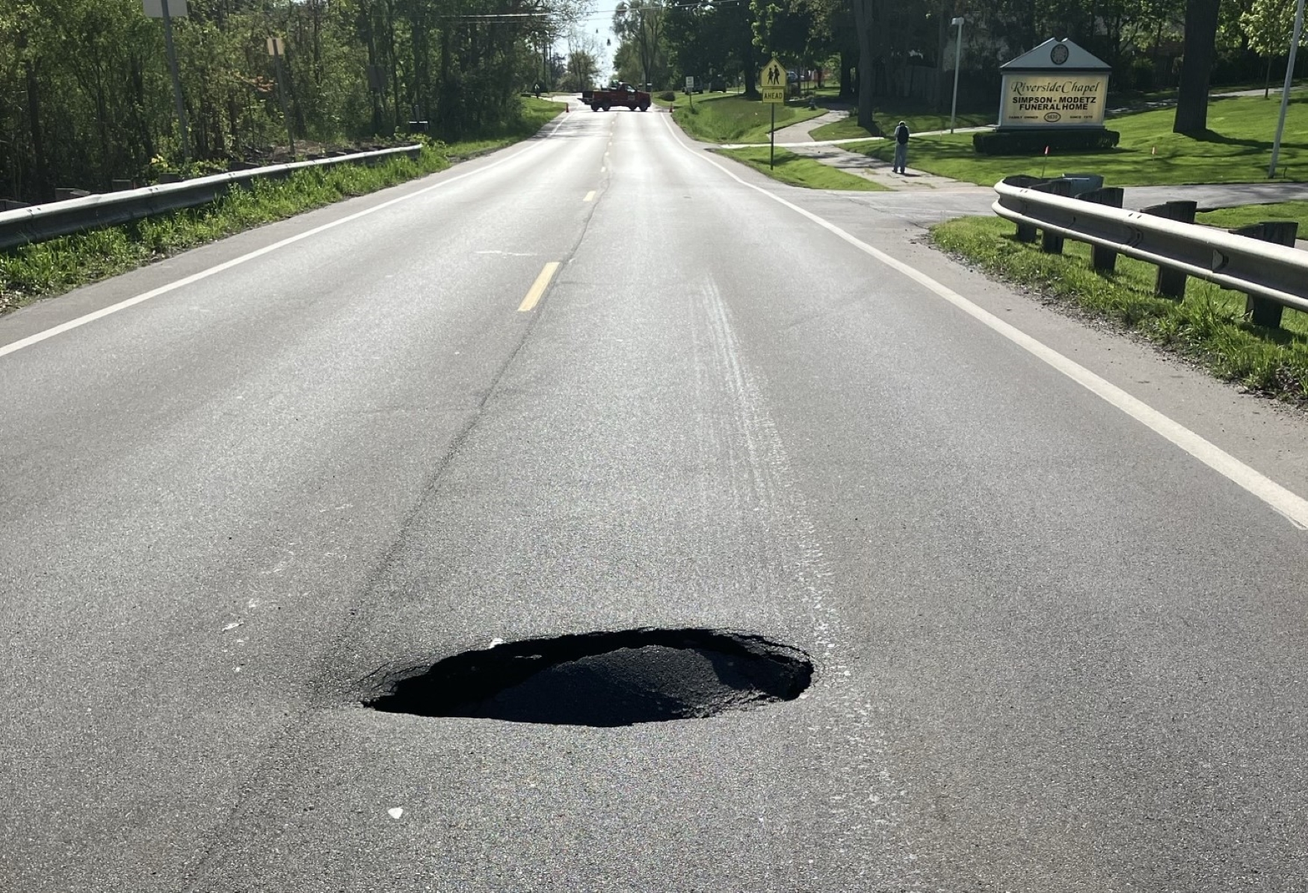Hole_in_the_road: (306, 543, 880, 798)
